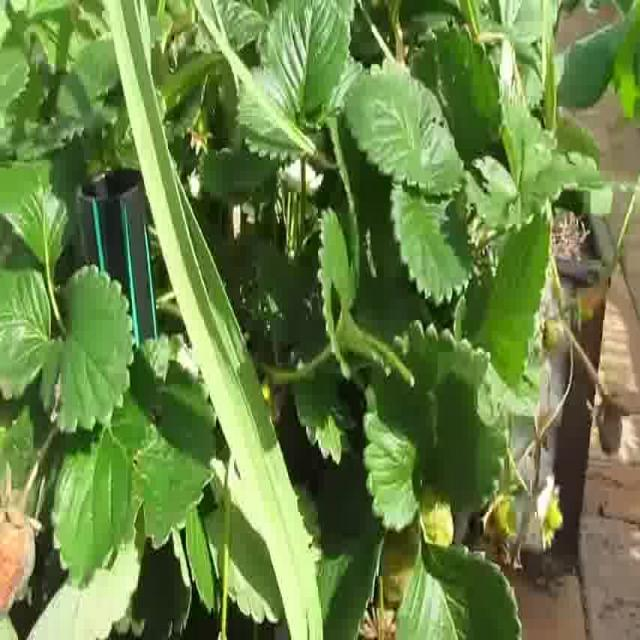Fruta sana: (420, 480, 456, 550), (482, 496, 518, 545), (541, 318, 565, 351), (545, 500, 563, 530), (578, 306, 596, 322)
Moho gris: (0, 506, 36, 614), (596, 398, 623, 455)
